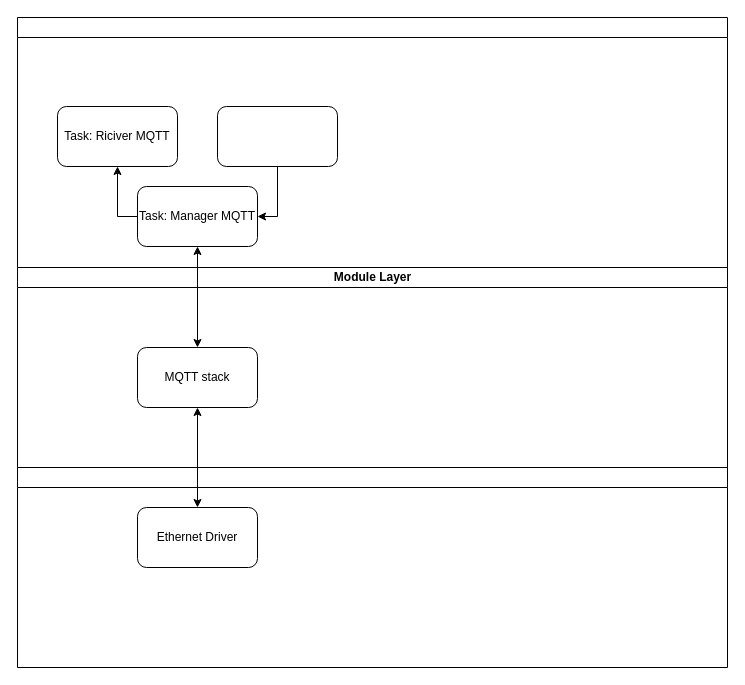
The diagram is 745 pixels wide and 685 high, and some of its shapes have lost their labels. The shapes that lost their labels are listed below. From the top down, each one's box as (x1, y1, x2, y2) in pixels, then its label:
(216, 106, 338, 166): Task: Publisher MQTT
(16, 16, 728, 268): Aplication Layer
(16, 466, 728, 668): Interface Level
